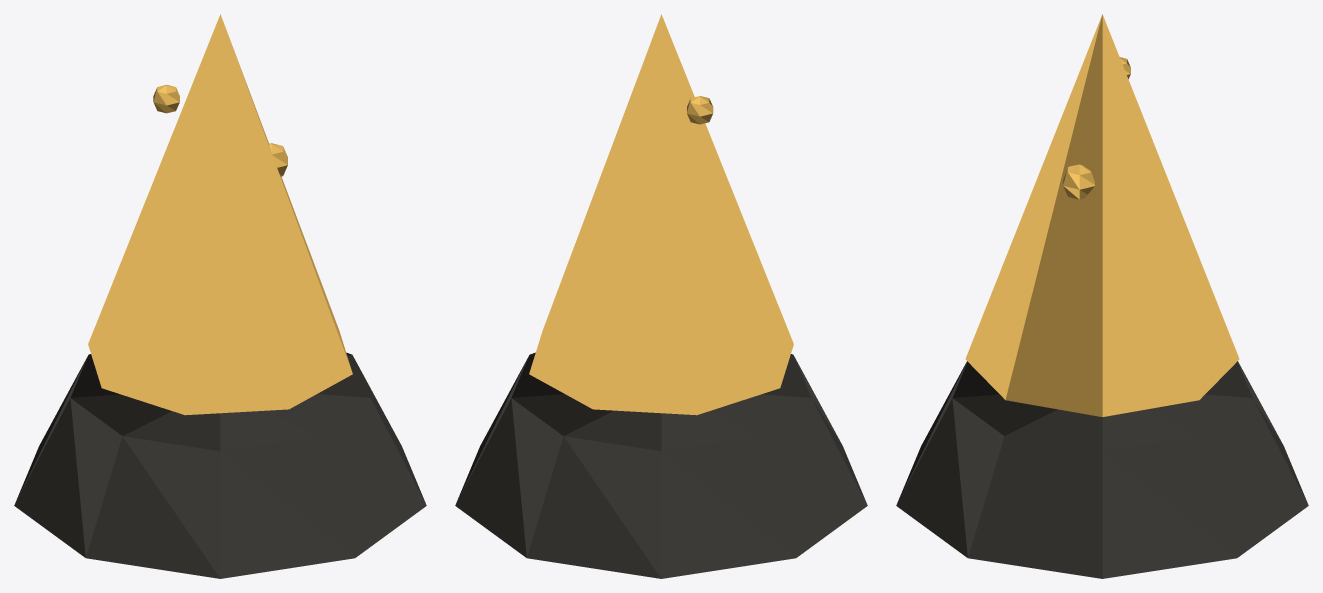
File: bonfire.obj
The picture shows the model from 3 angles, left to right: view 1: azimuth 30°, elevation 25°; view 2: azimuth 150°, elevation 25°; view 3: azimuth 270°, elevation 25°; orthographic projection.
Parts seen in each view (by area): view 1: bonfire_stack, bonfire_flame, bonfire_spark_b; view 2: bonfire_stack, bonfire_flame, bonfire_spark_b; view 3: bonfire_stack, bonfire_flame, bonfire_spark_a.
Part boxes in pixels (x1=…): bonfire_stack: x1=14, y1=352, x2=426, y2=578; bonfire_flame: x1=88, y1=14, x2=352, y2=415; bonfire_spark_b: x1=153, y1=84, x2=179, y2=113; bonfire_stack: x1=455, y1=352, x2=867, y2=578; bonfire_flame: x1=529, y1=14, x2=793, y2=415; bonfire_spark_b: x1=687, y1=96, x2=713, y2=124; bonfire_stack: x1=896, y1=361, x2=1308, y2=578; bonfire_flame: x1=965, y1=14, x2=1239, y2=416; bonfire_spark_a: x1=1063, y1=164, x2=1094, y2=199.
Size of the model in its own units: 1.07 by 1.38 by 1.08.
